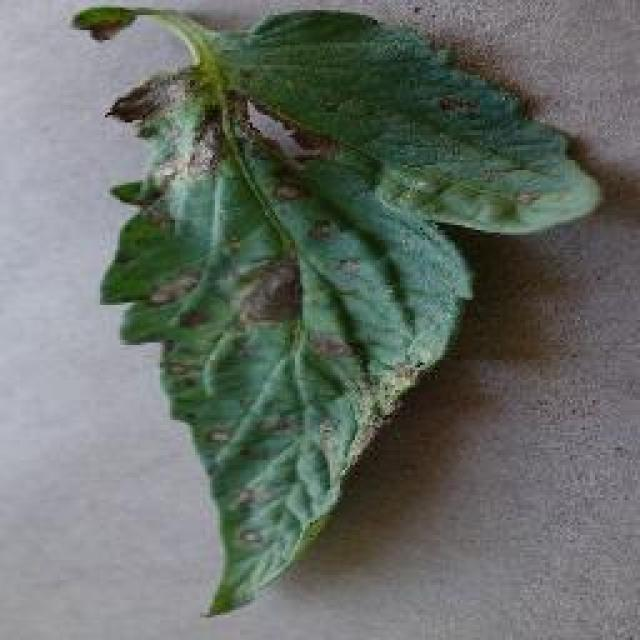Tomato___Early_blight: (70, 0, 604, 615)
